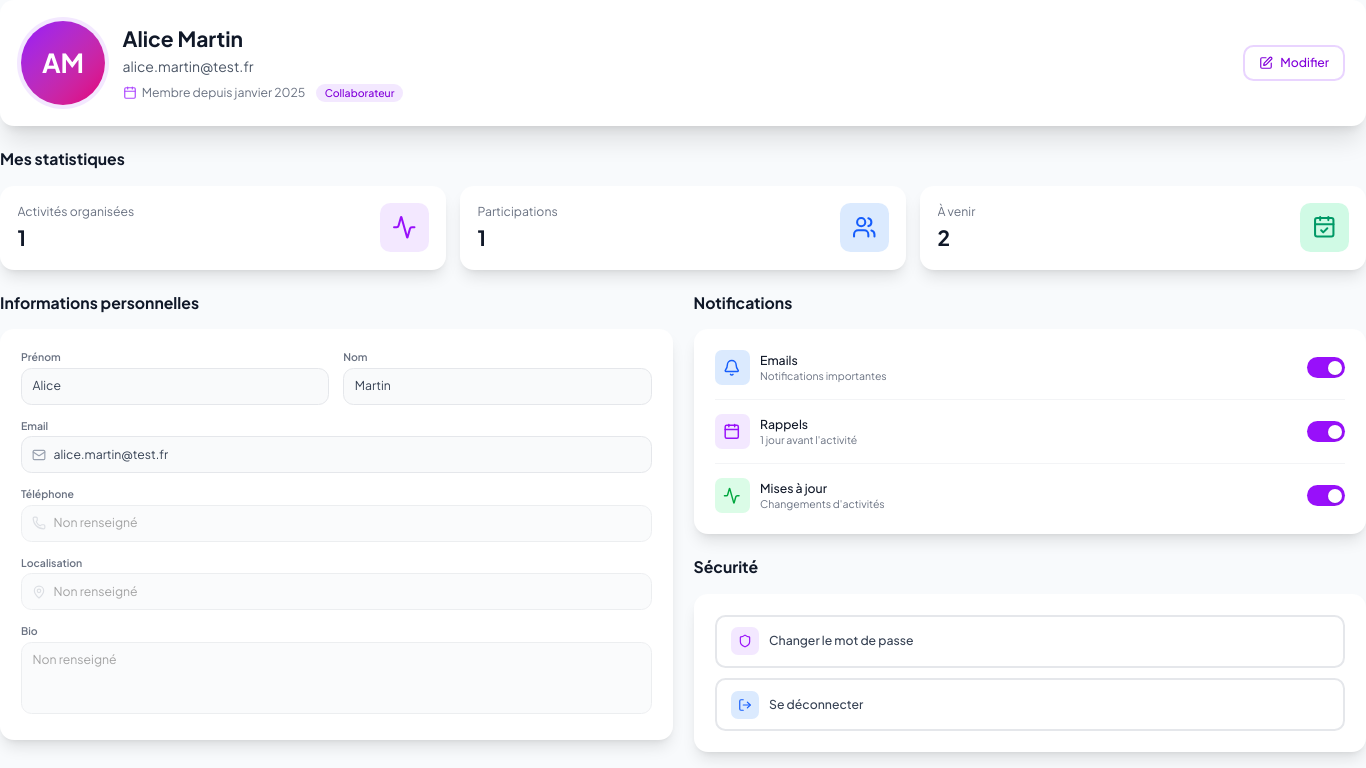
it: ProfilePage › ouvre la boîte de dialogue de déconnexion
expect the heading "Alice Martin" is shown: met, box x1=122 y1=24 x2=243 y2=52
Click the button "Se déconnecter" at (816, 704), box x1=714 y1=678 x2=1345 y2=731
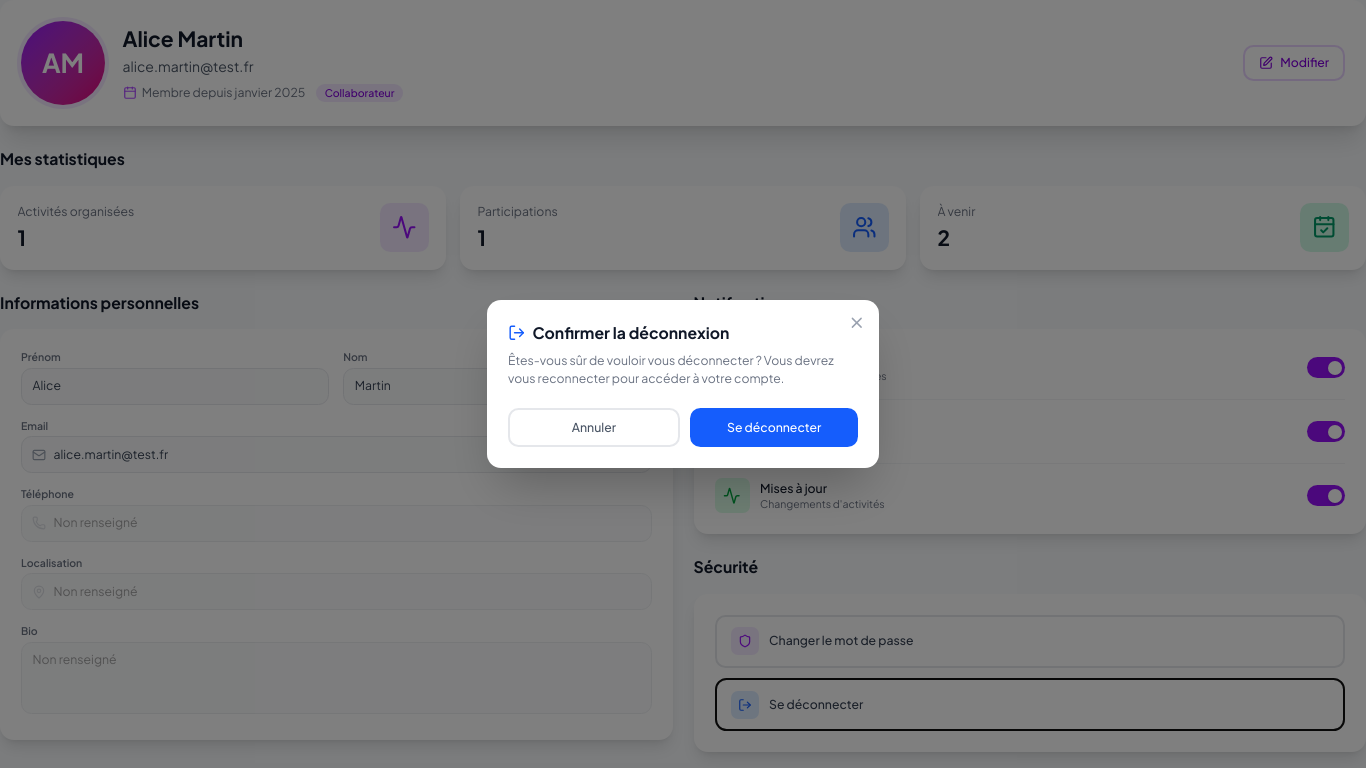
expect the heading "Confirmer la déconnexion" is shown: met, box x1=532 y1=321 x2=729 y2=345
